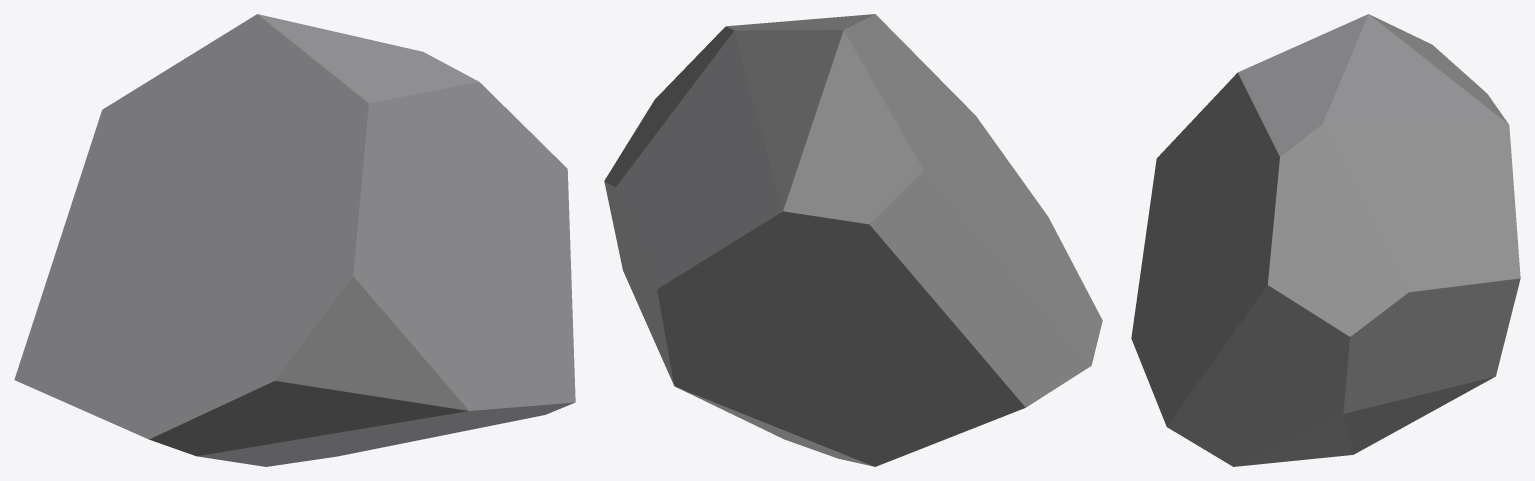
File: Rock_01.glb
3 views of the same model, side by side, from view 1: azimuth 30°, elevation 25°; view 2: azimuth 150°, elevation 25°; view 3: azimuth 270°, elevation 25° (orthographic). The views are drawn at different scales.
Parts seen in each view (by area): view 1: Rock_01; view 2: Rock_01; view 3: Rock_01.
Boxes of the visible parts, x1,y1,x2,y2 form: Rock_01: [14, 14, 575, 466]; Rock_01: [604, 14, 1102, 466]; Rock_01: [1131, 14, 1520, 466].
Size of what is drawn, in the model's own units: 3.49 by 2.94 by 2.54.
1 material, 1 textured.
